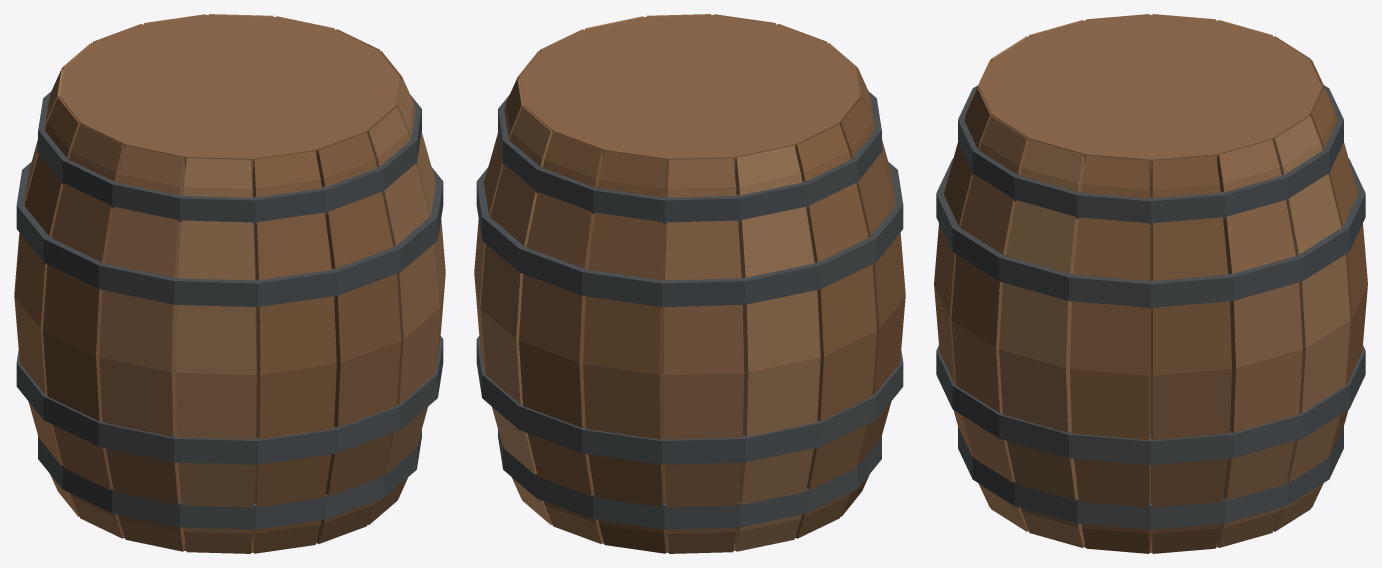
File: CellarBarrel.glb
3 views of the same model, side by side, from view 1: azimuth 30°, elevation 25°; view 2: azimuth 150°, elevation 25°; view 3: azimuth 270°, elevation 25° (orthographic).
Visible parts, largest first — view 1: BarrelHead.001, Stave_10, Stave_11, Stave_09, Stave_12, Stave_08, IronHoop.002, IronHoop.001, Stave_13, IronHoop.003, IronHoop, Stave_07 (+2 smaller); view 2: BarrelHead.001, Stave_05, Stave_04, Stave_06, Stave_03, Stave_07, IronHoop.002, IronHoop.001, Stave_02, IronHoop.003, IronHoop, Stave_08 (+2 smaller); view 3: BarrelHead.001, Stave_00, Stave_15, Stave_01, Stave_14, Stave_02, Stave_13, IronHoop.002, IronHoop.001, IronHoop.003, IronHoop, Stave_03 (+1 smaller).
Part boxes in pixels (<box>): BarrelHead.001: <box>59,15,400,174</box>; Stave_10: <box>175,158,256,553</box>; Stave_11: <box>252,151,336,553</box>; Stave_09: <box>99,145,185,551</box>; Stave_12: <box>316,132,400,544</box>; Stave_08: <box>42,124,124,538</box>; IronHoop.002: <box>16,162,443,307</box>; IronHoop.001: <box>16,336,443,464</box>; Stave_13: <box>367,106,439,524</box>; IronHoop.003: <box>38,91,421,224</box>; IronHoop: <box>38,430,421,529</box>; Stave_07: <box>14,97,80,516</box>; BarrelHead.001: <box>519,15,860,174</box>; Stave_05: <box>663,158,744,553</box>; Stave_04: <box>583,151,667,553</box>; Stave_06: <box>734,145,820,551</box>; Stave_03: <box>519,132,603,544</box>; Stave_07: <box>795,124,877,538</box>; IronHoop.002: <box>476,162,903,307</box>; IronHoop.001: <box>476,336,903,464</box>; Stave_02: <box>480,106,552,524</box>; IronHoop.003: <box>498,91,881,224</box>; IronHoop: <box>498,430,881,529</box>; Stave_08: <box>839,97,905,516</box>; BarrelHead.001: <box>979,15,1322,175</box>; Stave_00: <box>1151,155,1231,553</box>; Stave_15: <box>1070,155,1150,553</box>; Stave_01: <box>1217,139,1302,547</box>; Stave_14: <box>999,139,1084,547</box>; Stave_02: <box>1273,116,1350,531</box>; Stave_13: <box>951,116,1028,531</box>; IronHoop.002: <box>936,158,1365,307</box>; IronHoop.001: <box>936,345,1365,465</box>; IronHoop.003: <box>958,85,1343,224</box>; IronHoop: <box>958,427,1343,529</box>; Stave_03: <box>1309,88,1367,507</box>.
Bounding box in the file's own units: 4 × 4 × 4.
